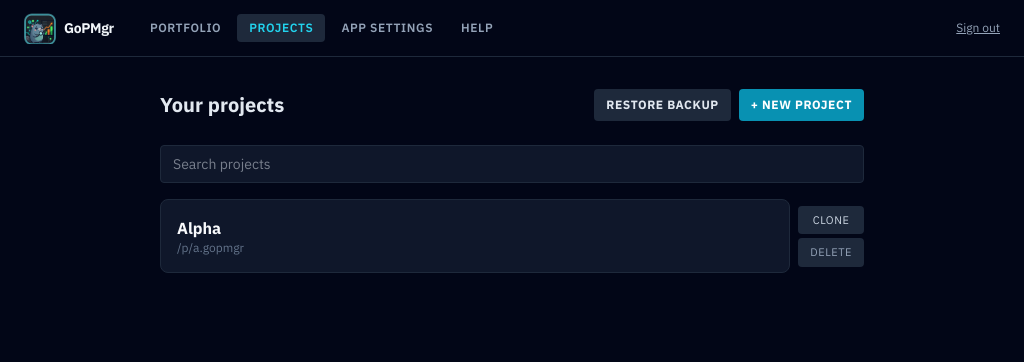
Test: ProjectPicker deleted-projects history › shows a new entry right after a project is deleted
Click the button with aria-label "Delete Alpha" at (831, 252), box left=798, top=238, right=864, bottom=266
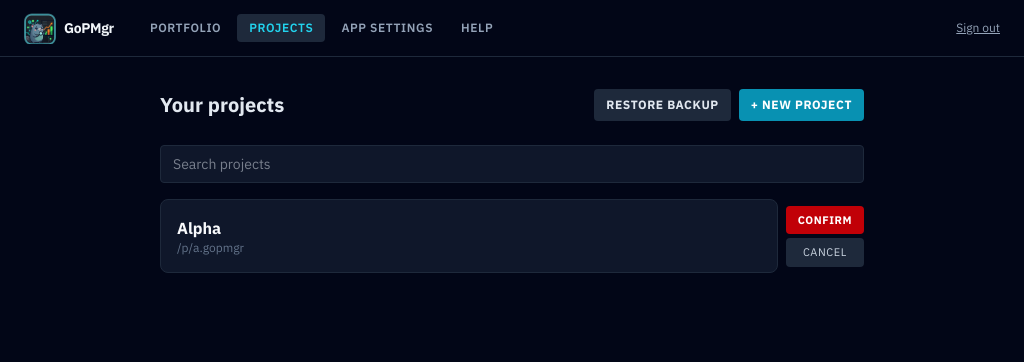
Click the button with aria-label "Confirm delete Alpha" at (825, 220), box left=786, top=206, right=864, bottom=234
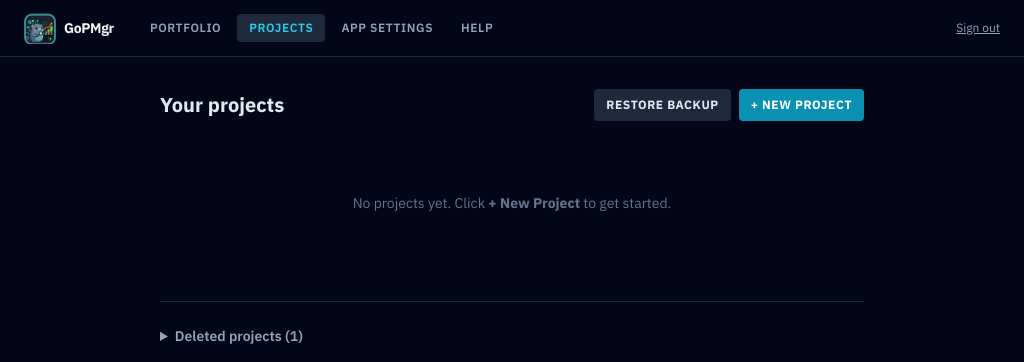
Expected: the heading "Deleted projects (1)" is shown, left=175, top=327, right=303, bottom=345
